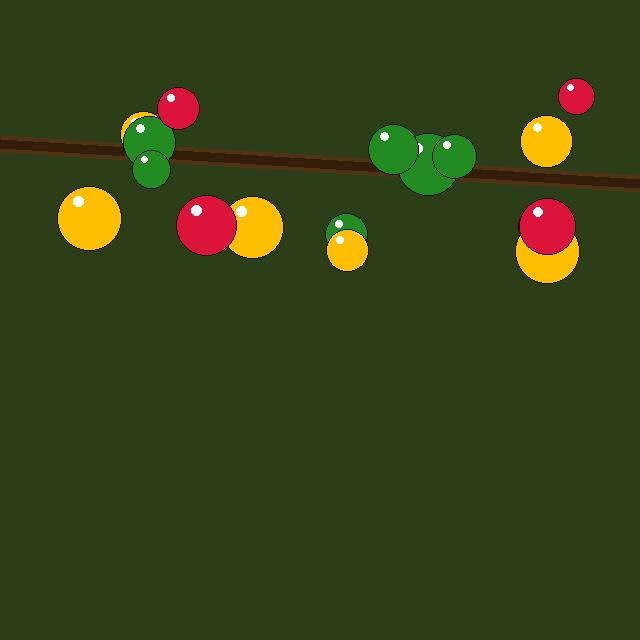Dry_Damaged: (518, 206, 558, 246)
Ripe: (176, 195, 236, 255), (519, 198, 575, 254), (157, 87, 199, 129), (558, 78, 594, 114)
Ripening: (515, 219, 579, 283), (57, 186, 121, 250), (221, 196, 283, 258), (520, 115, 572, 167), (120, 111, 166, 157), (326, 229, 368, 271)
Unripe: (397, 133, 459, 195), (123, 116, 175, 168), (368, 124, 418, 174), (432, 134, 476, 178), (325, 213, 367, 255), (132, 150, 170, 188)
